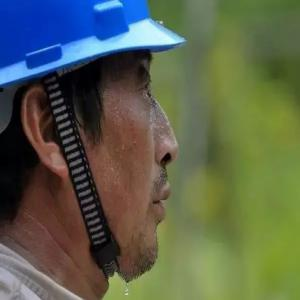blue: (2, 2, 174, 283)
